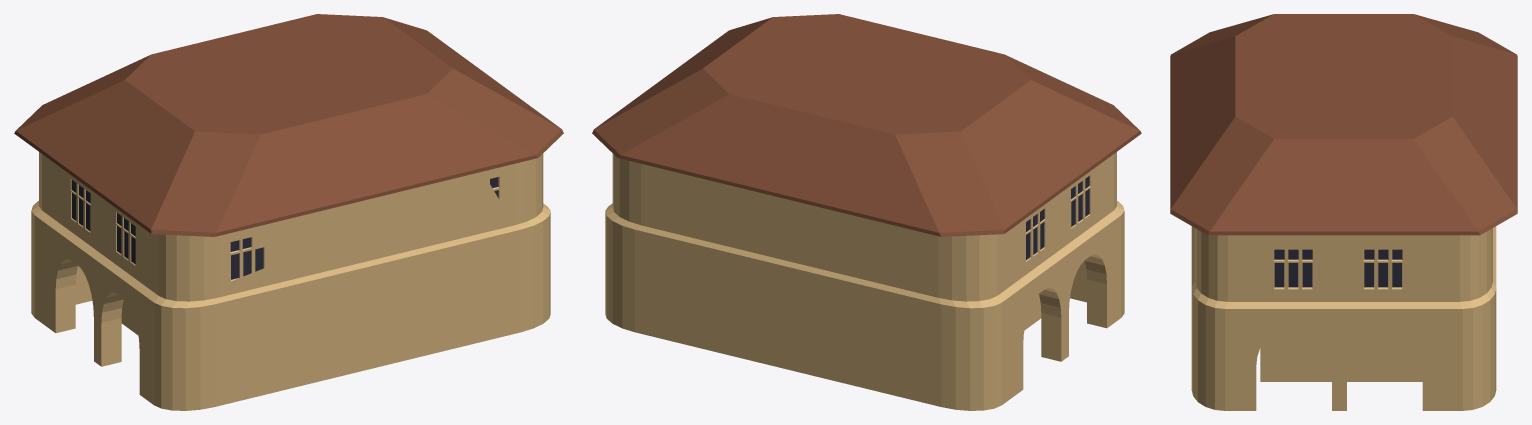
The model's file is building.fbx.
The picture shows the model from 3 angles, left to right: view 1: azimuth 30°, elevation 25°; view 2: azimuth 150°, elevation 25°; view 3: azimuth 270°, elevation 25°; orthographic projection.
Visible parts, largest first — view 1: Building, Roof, Windows; view 2: Building, Roof, Windows; view 3: Roof, Building, Windows.
Boxes of the visible parts, x1,y1,x2,y2 form: Building: [31, 152, 550, 410]; Roof: [14, 14, 563, 236]; Windows: [71, 177, 498, 279]; Building: [605, 152, 1124, 410]; Roof: [592, 14, 1141, 236]; Windows: [1026, 176, 1089, 259]; Roof: [1170, 14, 1517, 235]; Building: [1191, 226, 1496, 410]; Windows: [1274, 249, 1401, 287].
Size of the model in its own units: 1467 by 815 by 1078.
